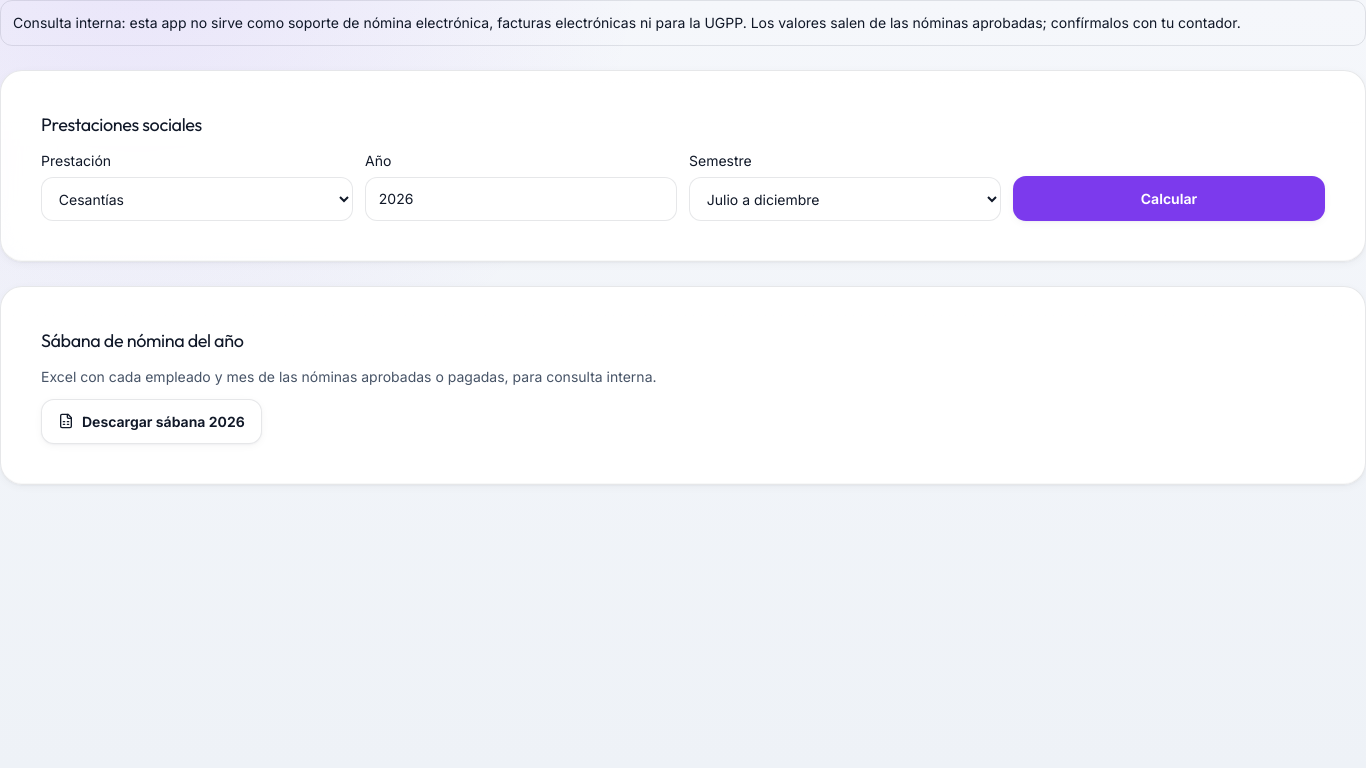
Test: benefits: cesantias are consigned to the fund so they cannot be applied to payroll
This screenshot has width=1366, height=768.
Select "Cesantías" in the dropdown with test id "benefit-kind" at coordinates (197, 199), box [41,177,353,221]
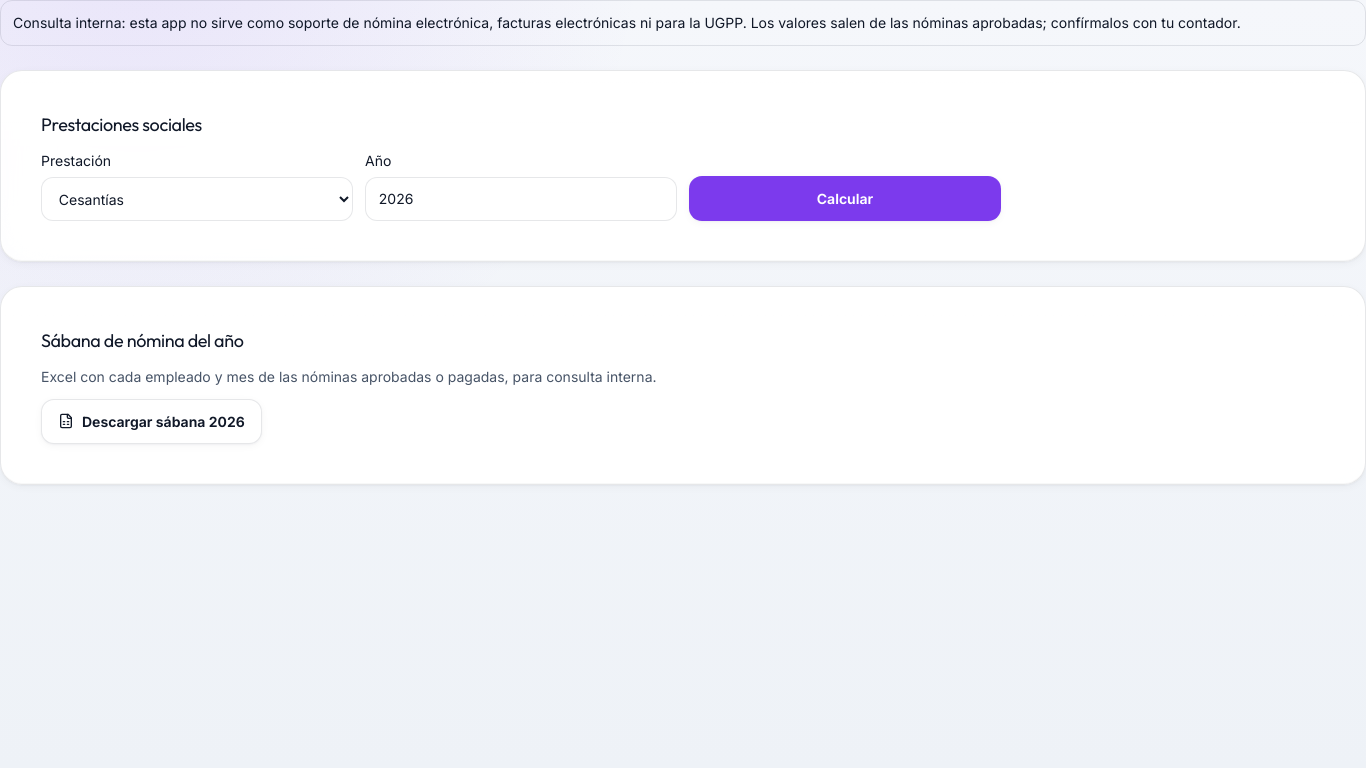
Click the button with test id "benefit-preview" at coordinates (845, 199), box [689,176,1001,221]
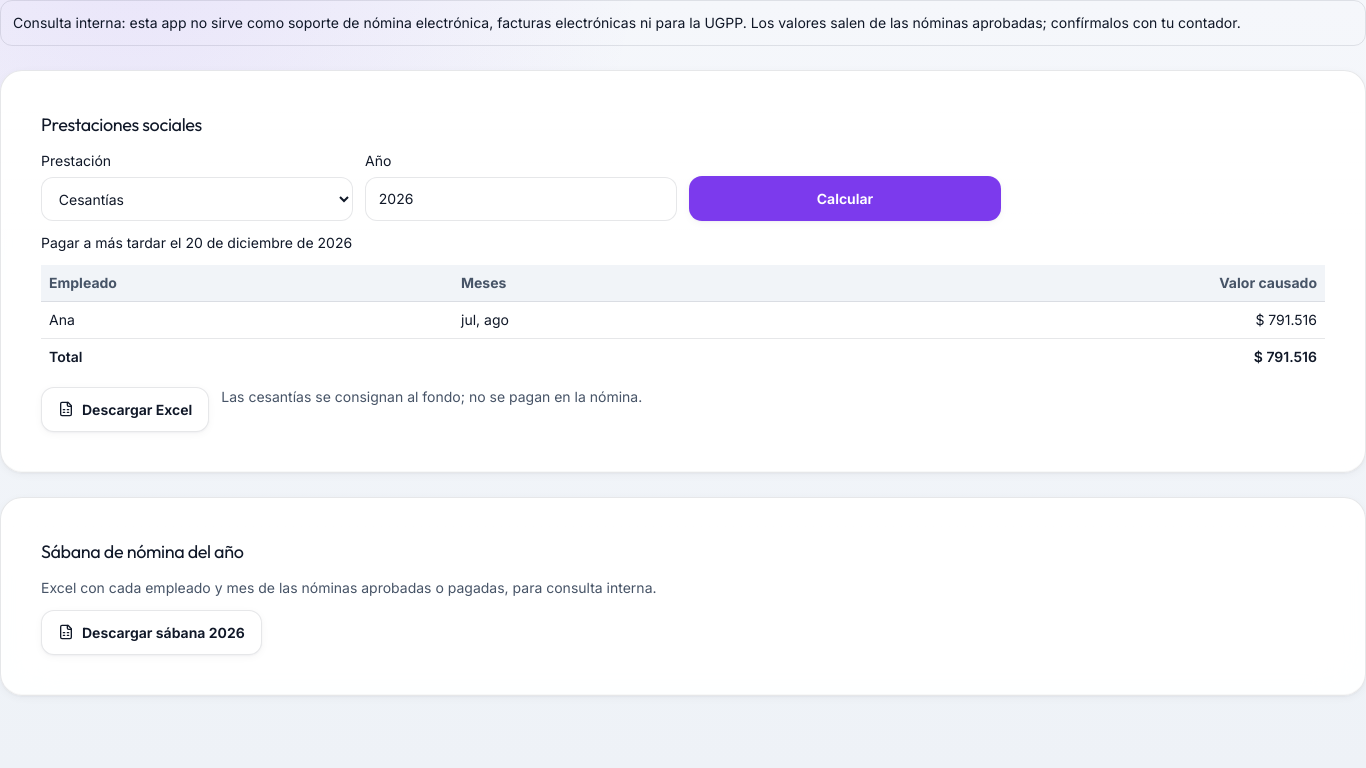
expect the element with test id "benefit-result" shows "se consignan al fondo": met, box [221,388,642,405]
